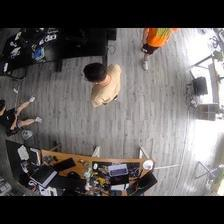normal: (138, 27, 178, 71), (82, 62, 122, 105), (1, 97, 43, 130)
